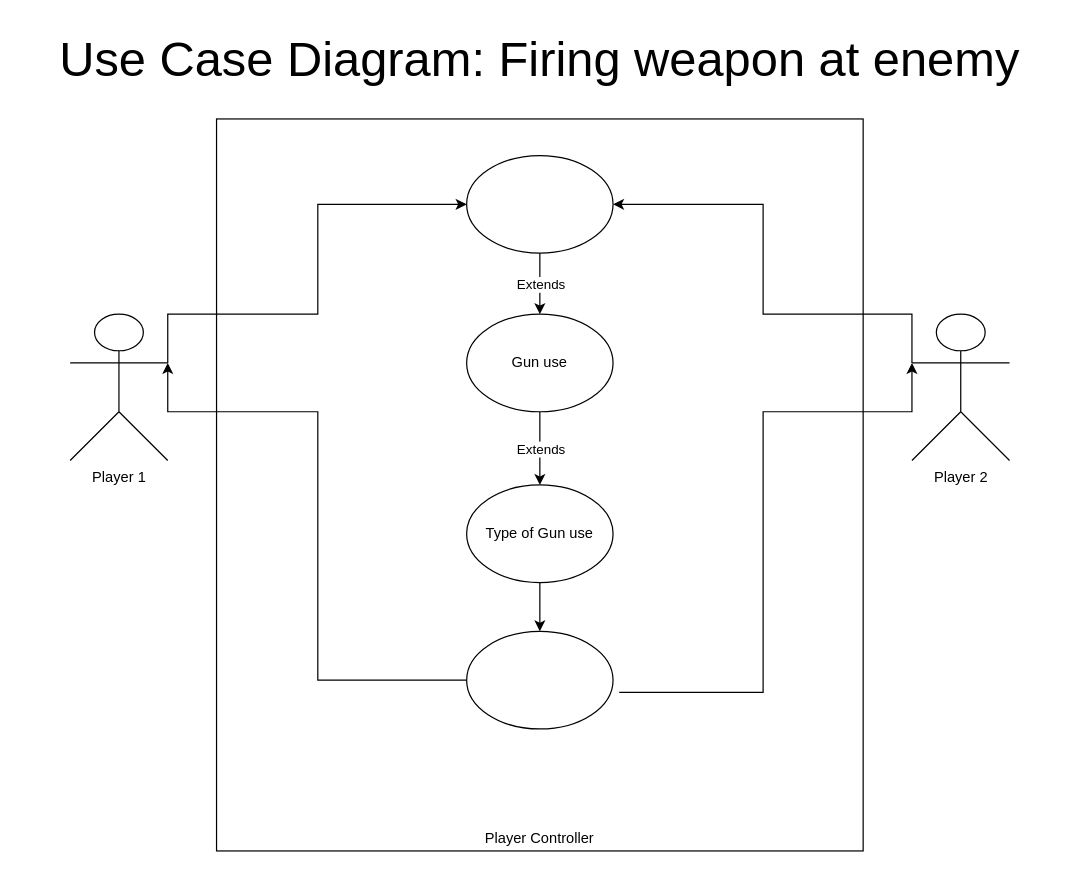
Some shapes in this 1078 by 872 pixel diagram are drawn without their labels. Each missing label, with the centre of its shape:
Item Use: (539,203)
Take Damage: (539,679)
